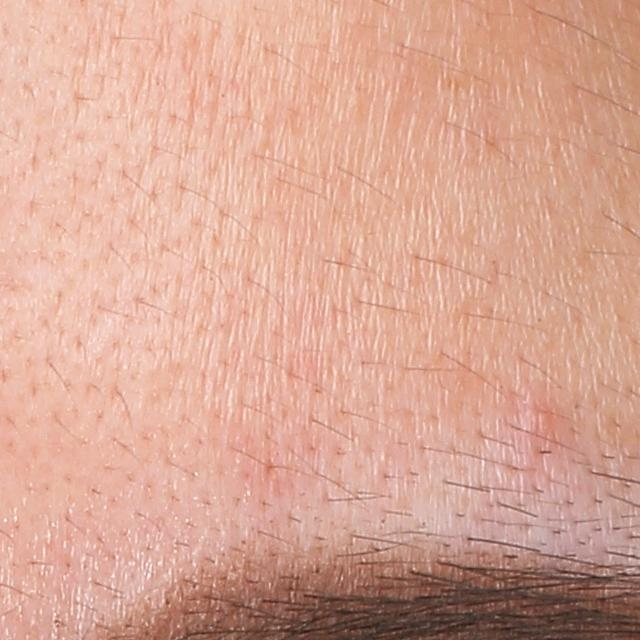papule: (506, 395, 557, 443)
